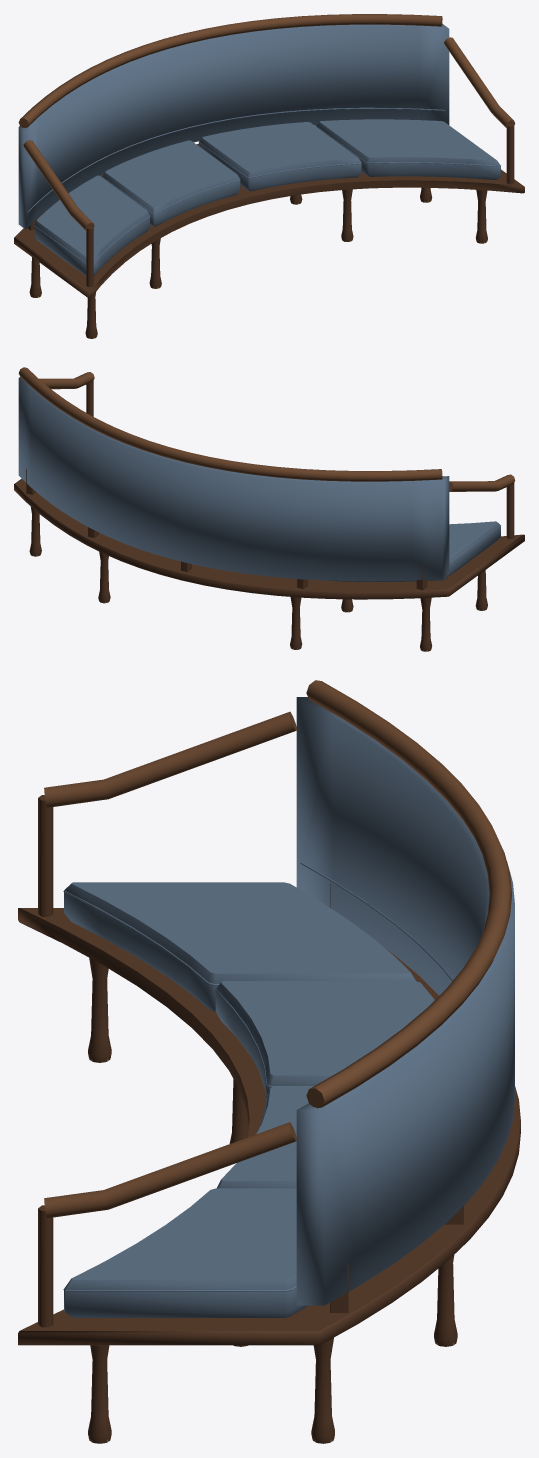
File: rpg-mansion-inward-conversation-sofa-01.glb
The picture shows the model from 3 angles, top to bottom: view 1: azimuth 30°, elevation 25°; view 2: azimuth 150°, elevation 25°; view 3: azimuth 270°, elevation 25°; orthographic projection. The views are drawn at different scales.
Parts seen in each view (by area): view 1: rpg-mansion-inward-conversation-sofa-01; view 2: rpg-mansion-inward-conversation-sofa-01; view 3: rpg-mansion-inward-conversation-sofa-01.
Part boxes in pixels (x1,y1,x2,y2): rpg-mansion-inward-conversation-sofa-01: (14, 14, 524, 338); rpg-mansion-inward-conversation-sofa-01: (14, 367, 524, 651); rpg-mansion-inward-conversation-sofa-01: (18, 680, 520, 1443).
Size of the model in its own units: 2.5 by 1 by 1.25.
